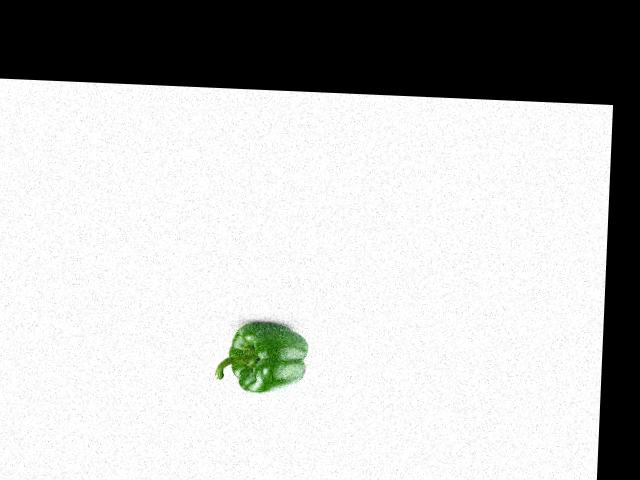bell_pepper: (212, 321, 311, 396)
